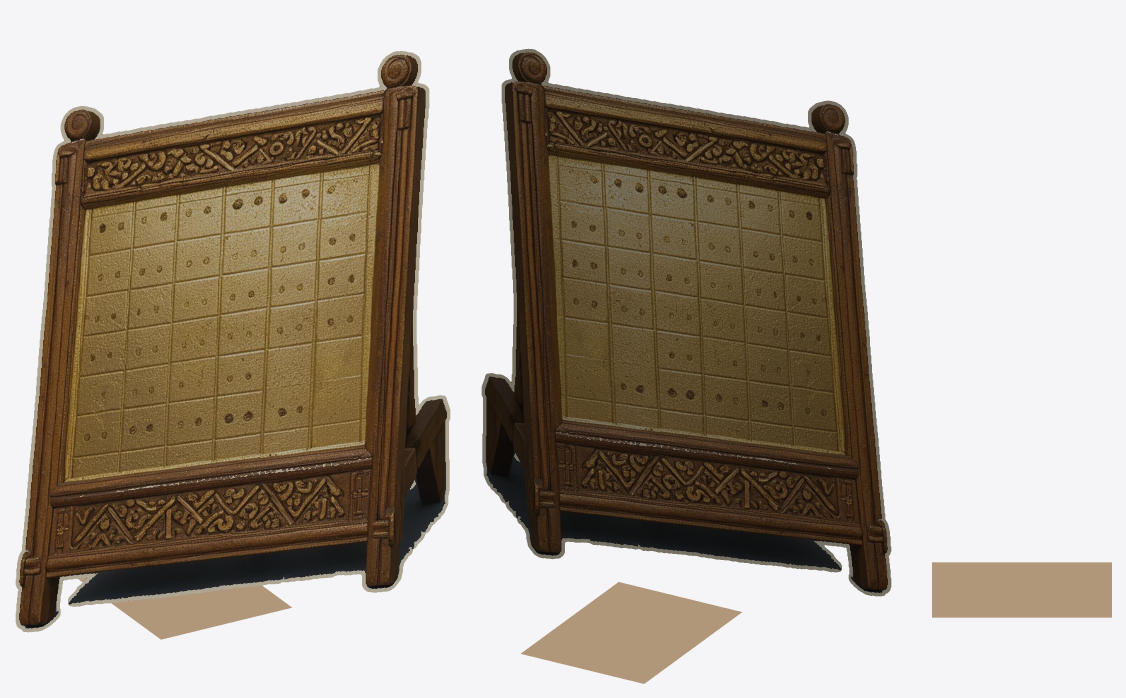
File: toad-standee-calendar.glb
3 renders of one model, left to right at view 1: azimuth 30°, elevation 25°; view 2: azimuth 150°, elevation 25°; view 3: azimuth 270°, elevation 25°, orthographic. The views are drawn at different scales.
Visible parts, largest first — view 1: calendar; view 2: calendar; view 3: calendar.
Boxes of the visible parts, x1,y1,x2,y2 form: calendar: [15, 51, 450, 639]; calendar: [481, 48, 891, 683]; calendar: [932, 562, 1111, 617].
Size of the model in its own units: 0.08 by 0.0984 by 0.035.
Materials: 1 (1 with a texture image).
